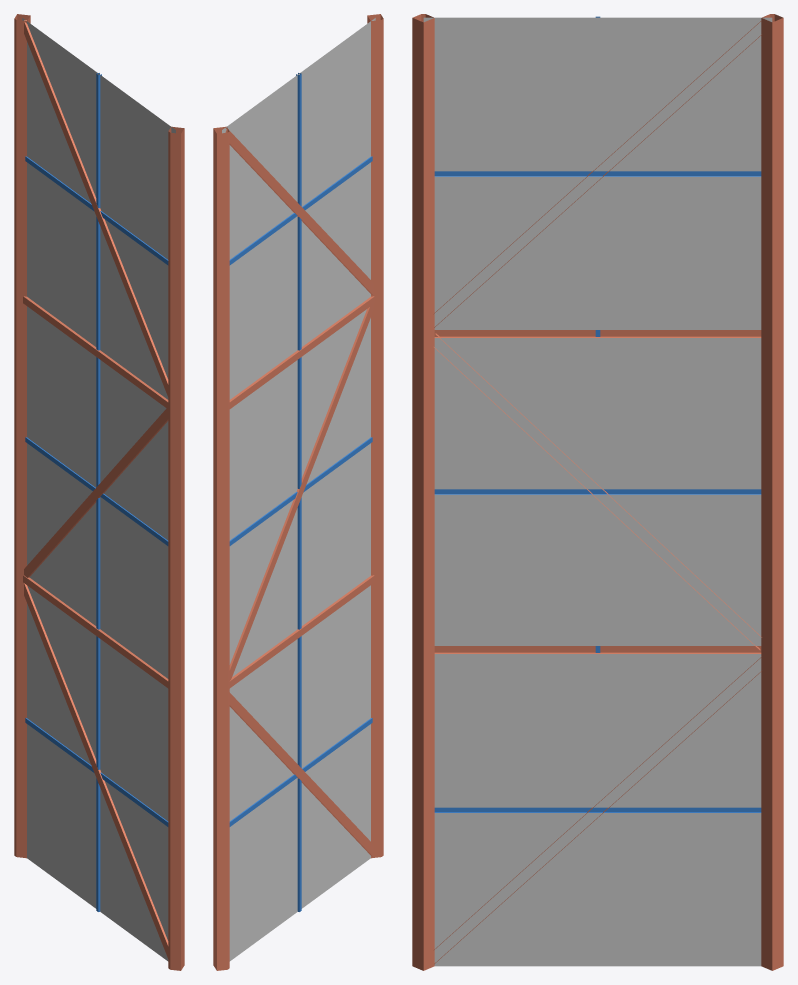
The model's file is Floor_01_MegaWall_02a.fbx.
3 renders of one model, left to right at view 1: azimuth 30°, elevation 25°; view 2: azimuth 150°, elevation 25°; view 3: azimuth 270°, elevation 25°, orthographic. The views are drawn at different scales.
Visible parts, largest first — view 1: Cube.002; view 2: Cube.002; view 3: Cube.002.
Boxes of the visible parts, <box> form: Cube.002: <box>14,14,184,970</box>; Cube.002: <box>213,14,383,970</box>; Cube.002: <box>412,14,783,970</box>.
Size of the model in its own units: 11.49 by 600 by 213.
